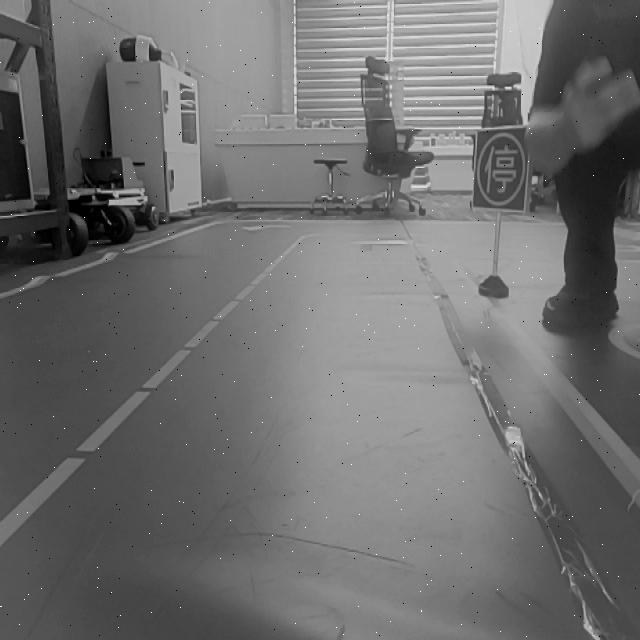left_lane: (0, 238, 303, 549)
right_lane: (460, 271, 640, 513)
